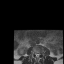CCS_normal: (36, 51, 38, 58)
LFS_normal: (40, 50, 41, 56)
LLS_normal: (38, 51, 40, 57)
RFS_normal: (33, 50, 35, 55)
RLS_normal: (35, 51, 36, 57)
